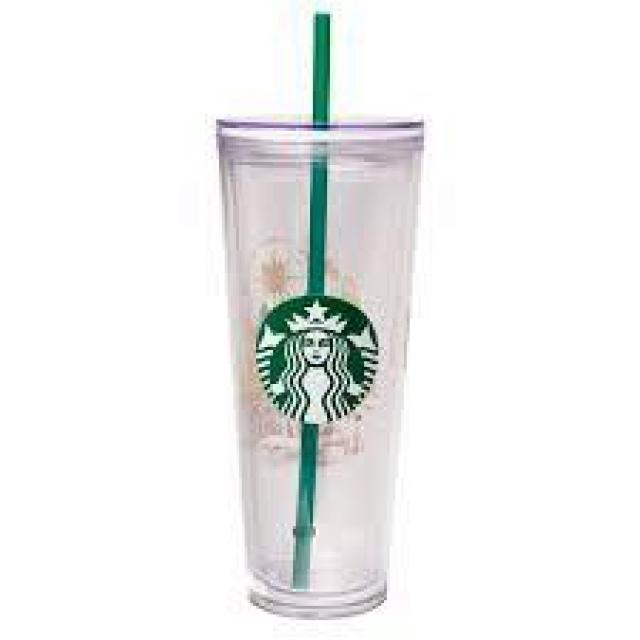bottle: (208, 10, 438, 621)
